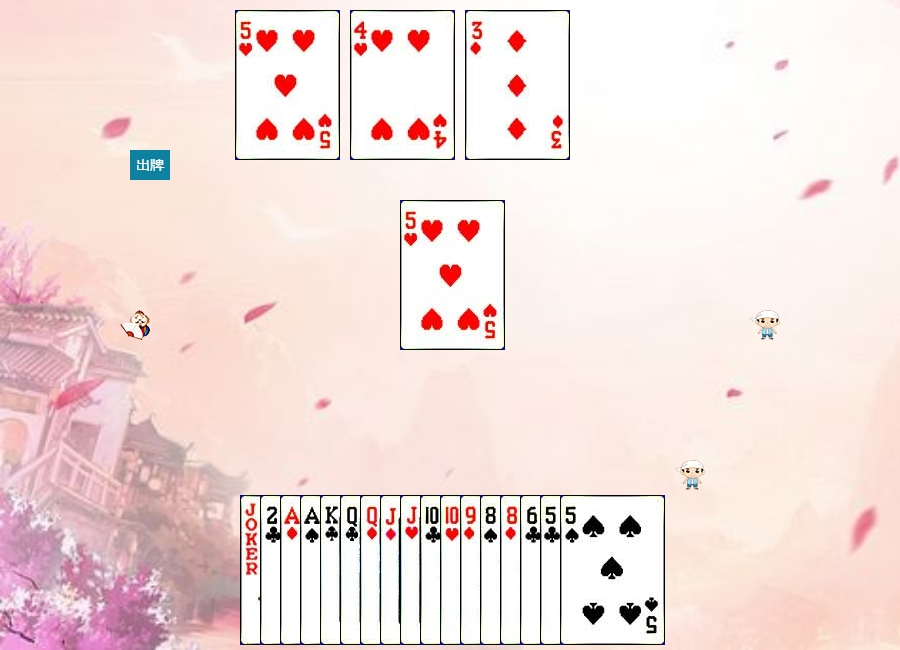10~2: (420, 495, 525, 645)
10~3: (440, 495, 545, 645)
11~1: (380, 495, 485, 645)
11~3: (400, 495, 505, 645)
12~1: (360, 495, 465, 645)
12~2: (340, 495, 445, 645)
13~2: (320, 495, 425, 645)
14~1: (280, 495, 385, 645)
14~4: (300, 495, 405, 645)
15~2: (260, 495, 365, 645)
18~4: (240, 495, 345, 645)
3~1: (465, 10, 570, 160)
4~3: (350, 10, 455, 160)
5~2: (540, 495, 645, 645)
5~3: (235, 10, 340, 160), (400, 200, 505, 350)
5~4: (560, 495, 665, 645)
6~2: (520, 495, 625, 645)
8~1: (500, 495, 605, 645)
8~4: (480, 495, 585, 645)
9~1: (460, 495, 565, 645)
